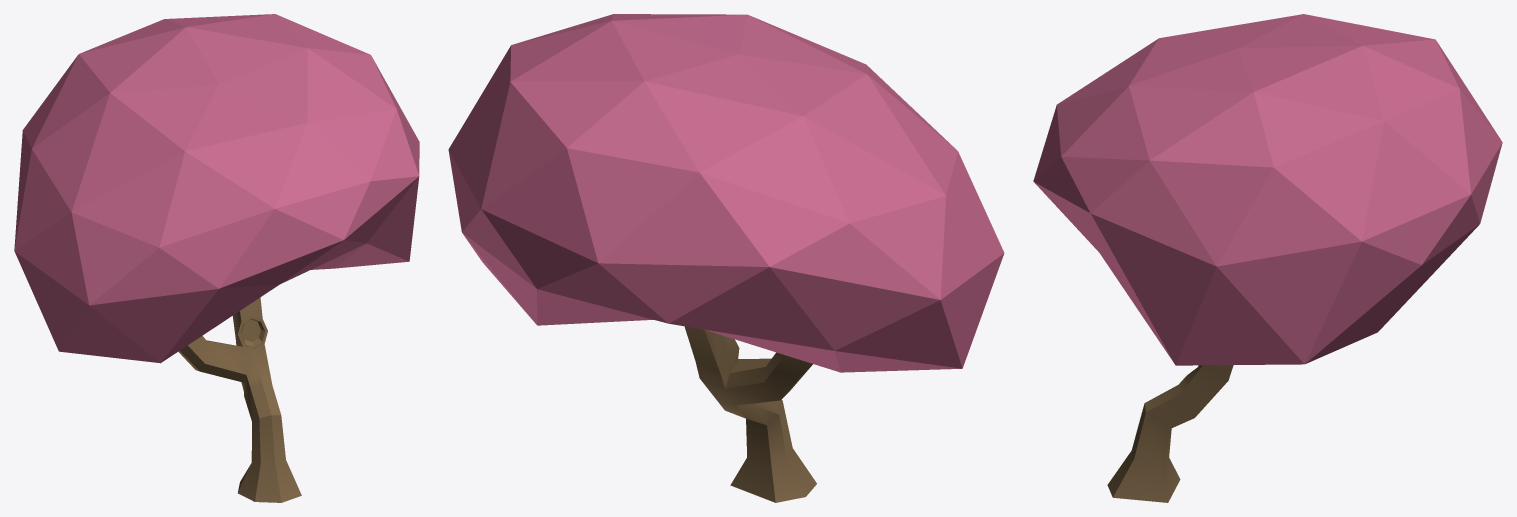
The model's file is Tree_5.fbx.
The picture shows the model from 3 angles, left to right: view 1: azimuth 30°, elevation 25°; view 2: azimuth 150°, elevation 25°; view 3: azimuth 270°, elevation 25°; orthographic projection. The views are drawn at different scales.
Parts seen in each view (by area): view 1: Tree_5; view 2: Tree_5; view 3: Tree_5.
Part boxes in pixels (<box>): Tree_5: <box>14,14,419,502</box>; Tree_5: <box>448,14,1004,502</box>; Tree_5: <box>1033,14,1502,502</box>.
Bounding box in the file's own units: 245 × 244 × 232.
